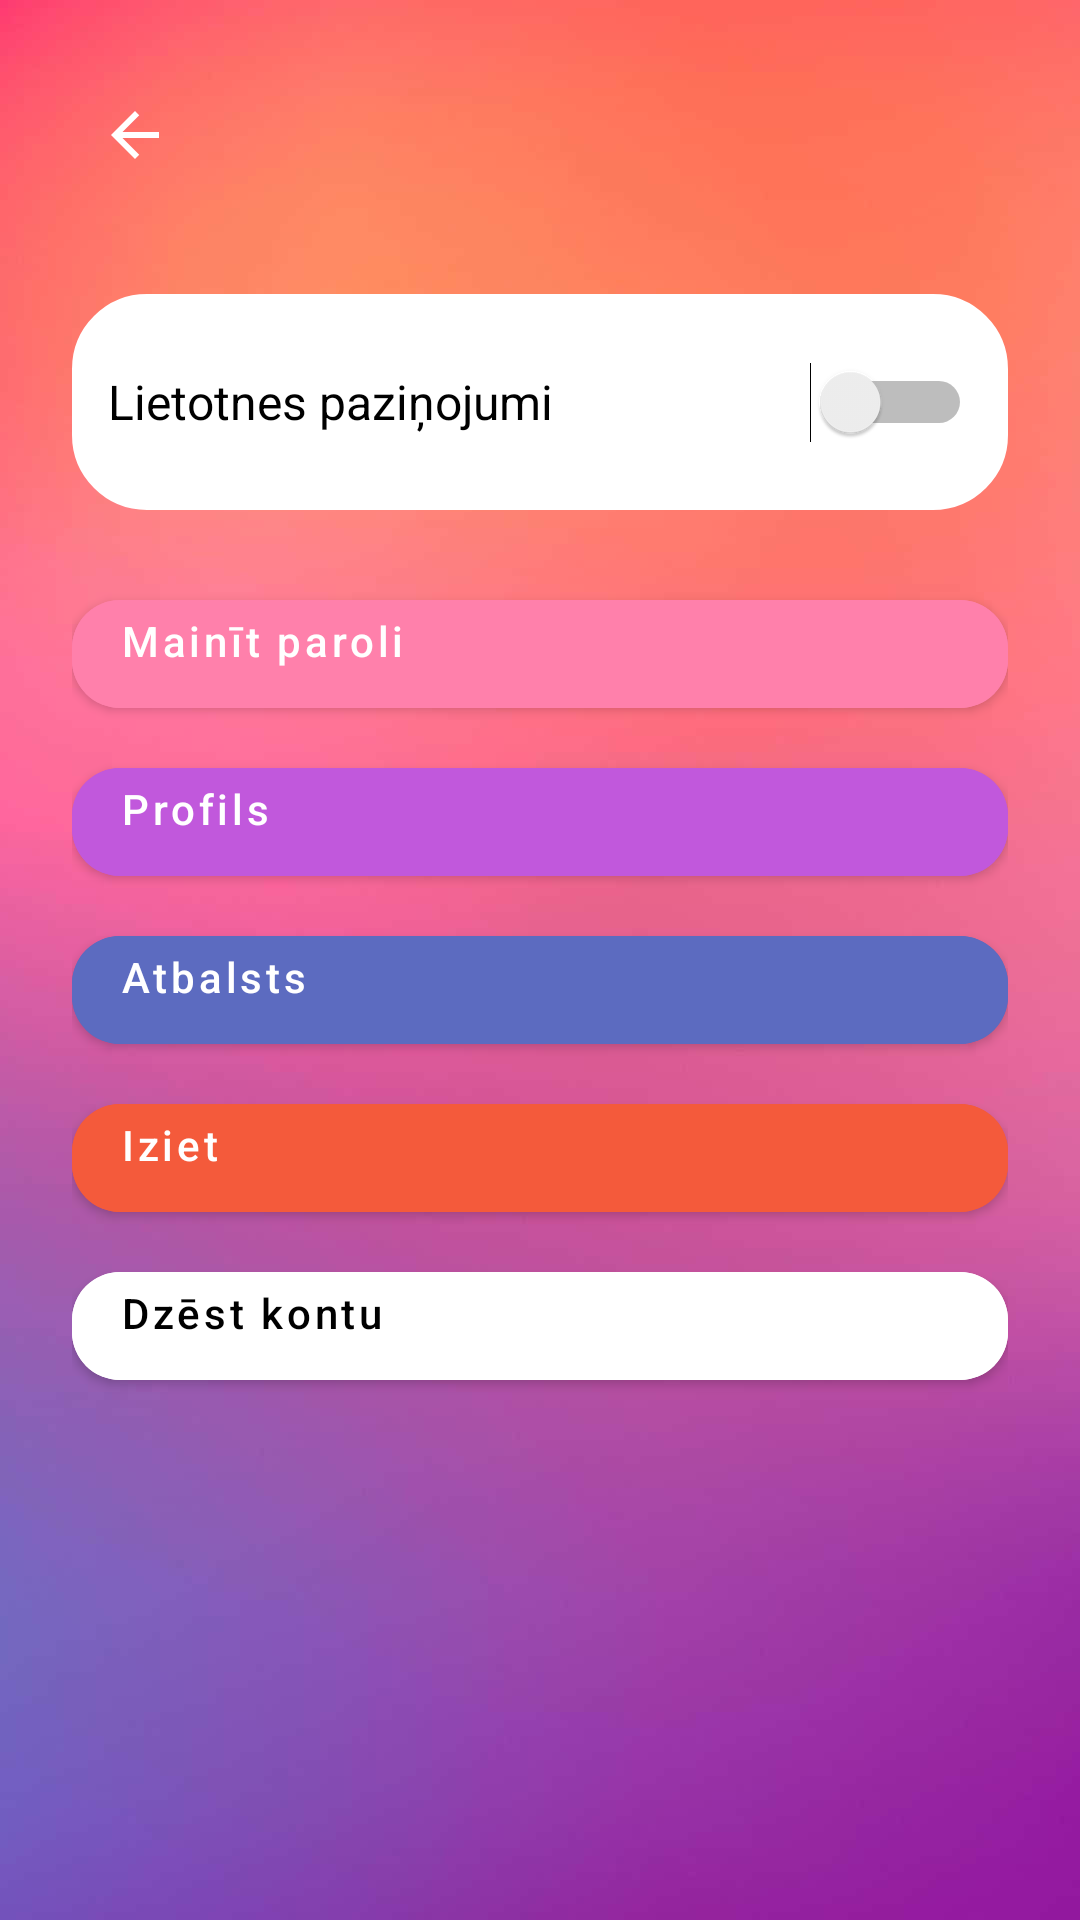

Where icons sit on this 1080x1920 app screen, as [x1, y1, x2, y2]:
Atpakaļ: [111, 111, 159, 159]
